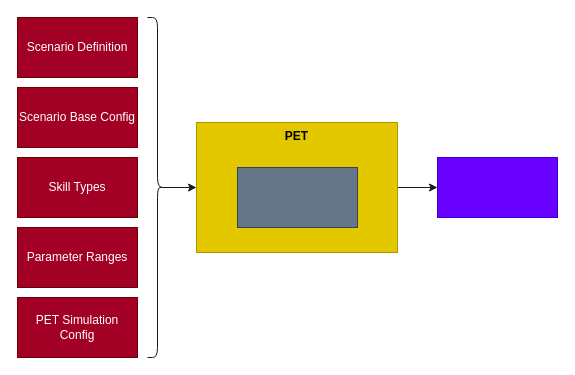
This 575x375 diagram has some shape labels left out. Each missing label, with the centre of its shape:
Report / Dashboard: the point at 497,187
Simulation: the point at 297,197
